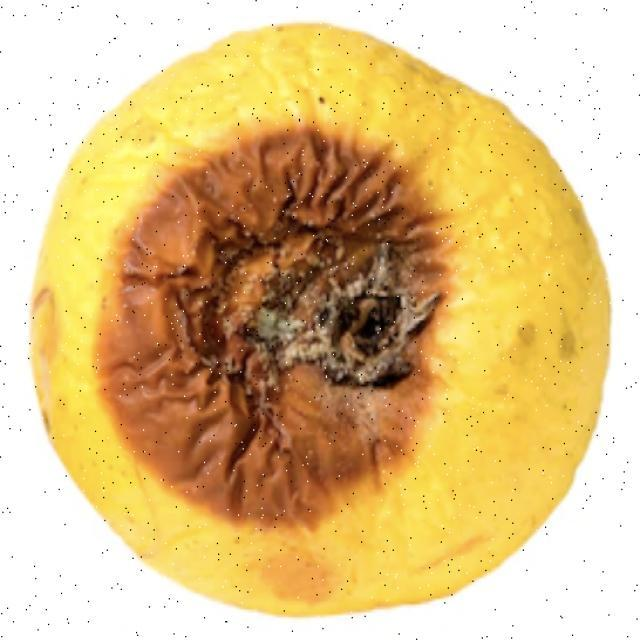Rotten: (61, 37, 616, 608)
